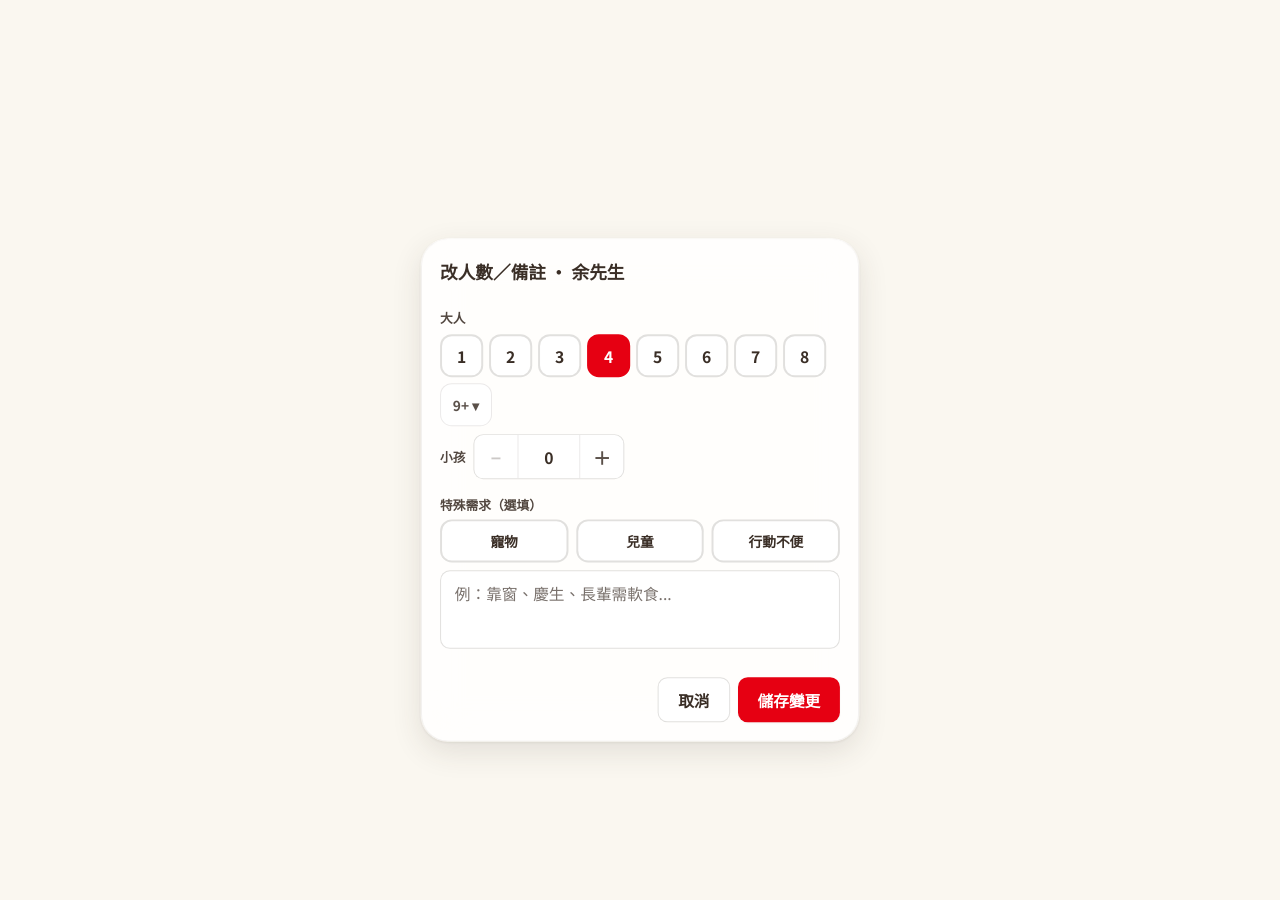
Scenario: EditBookingModal：已入座只改人數＋備註 › 人數超過擠一擠上限 → 黃字提示桌位不變
Click the button "8" at (805, 355), box [783,334,826,377]
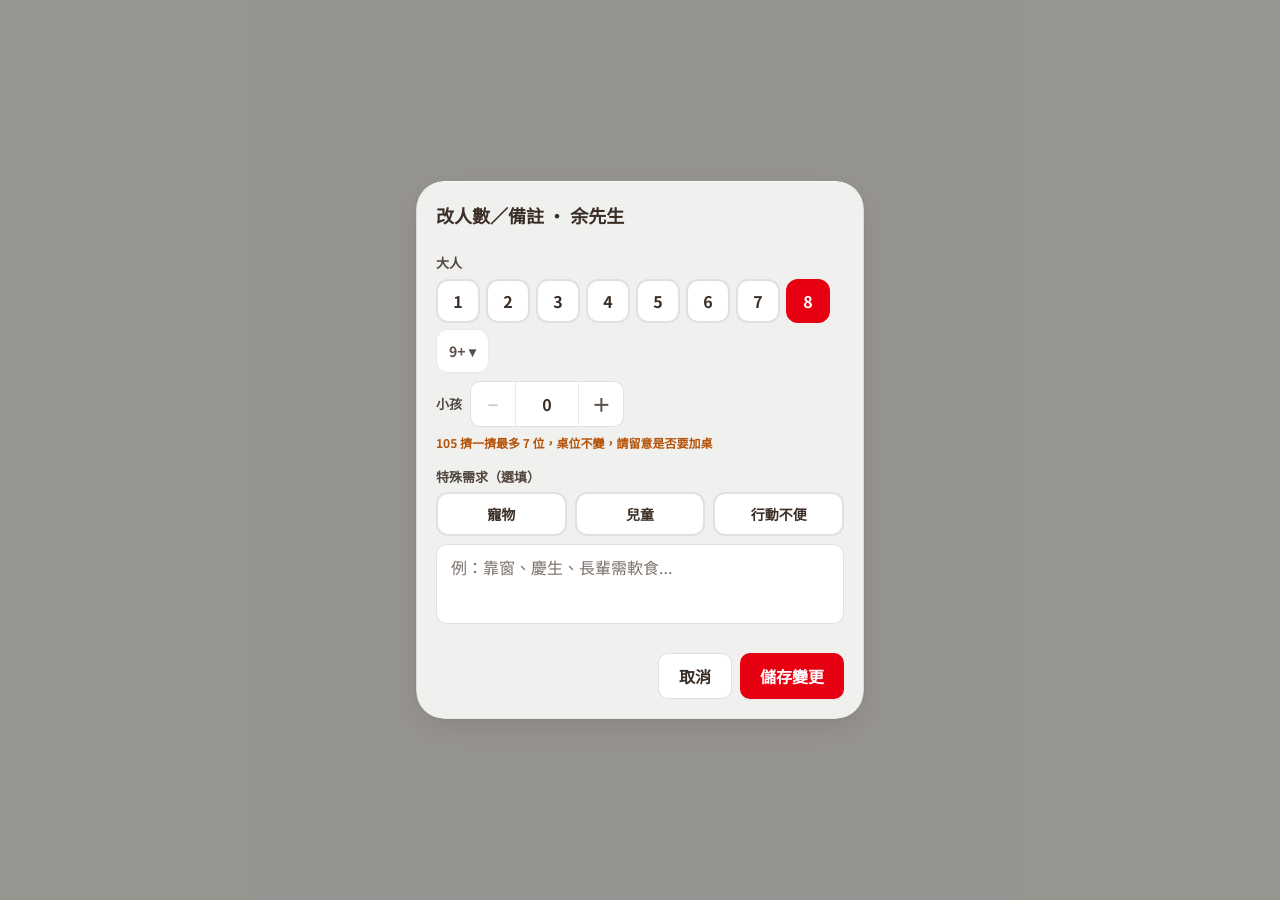
Expected: the message with test id "edit-table-note" shows "最多 7 位", [436,434,712,450]
Expected: the message with test id "edit-table-note" shows "桌位不變", [436,434,712,450]
